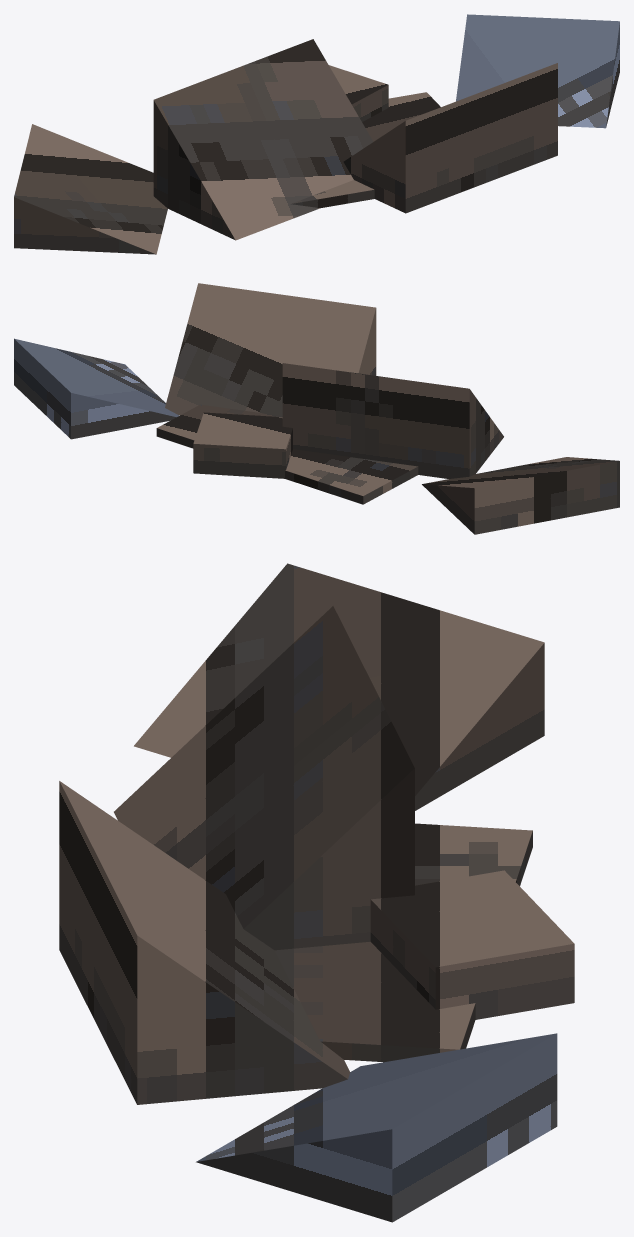
The model's file is tp_ds_fallen_voussoir.glb.
3 renders of one model, top to bottom at view 1: azimuth 30°, elevation 25°; view 2: azimuth 150°, elevation 25°; view 3: azimuth 270°, elevation 25°, orthographic. The views are drawn at different scales.
Parts seen in each view (by area): view 1: ds_fv_keyed_a, ds_fv_keyed_b, ds_fv_loose_a, ds_fv_loose_b, ds_fv_dust, ds_fv_chip; view 2: ds_fv_keyed_b, ds_fv_keyed_a, ds_fv_loose_a, ds_fv_loose_b, ds_fv_dust, ds_fv_chip; view 3: ds_fv_keyed_a, ds_fv_keyed_b, ds_fv_loose_a, ds_fv_loose_b, ds_fv_chip, ds_fv_dust.
Part boxes in pixels (<box>): ds_fv_keyed_a: <box>153,39,373,240</box>; ds_fv_keyed_b: <box>343,63,557,213</box>; ds_fv_loose_a: <box>14,124,167,254</box>; ds_fv_loose_b: <box>456,14,619,128</box>; ds_fv_dust: <box>291,92,440,208</box>; ds_fv_chip: <box>329,65,388,121</box>; ds_fv_keyed_b: <box>165,283,376,415</box>; ds_fv_keyed_a: <box>282,363,503,478</box>; ds_fv_loose_a: <box>422,457,619,534</box>; ds_fv_loose_b: <box>14,338,178,439</box>; ds_fv_dust: <box>156,404,418,504</box>; ds_fv_chip: <box>193,412,292,478</box>; ds_fv_keyed_a: <box>114,606,414,950</box>; ds_fv_keyed_b: <box>59,781,350,1104</box>; ds_fv_loose_a: <box>134,563,544,810</box>; ds_fv_loose_b: <box>196,1033,557,1222</box>; ds_fv_chip: <box>370,870,574,1019</box>; ds_fv_dust: <box>274,823,532,1062</box>.
Bounding box in the file's own units: 1.43 × 0.22 × 0.5506.
3 materials, 3 textured.
